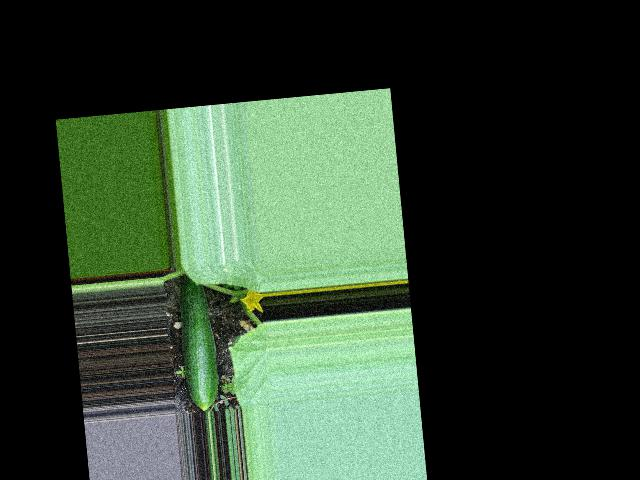cucumber: (175, 276, 221, 413)
